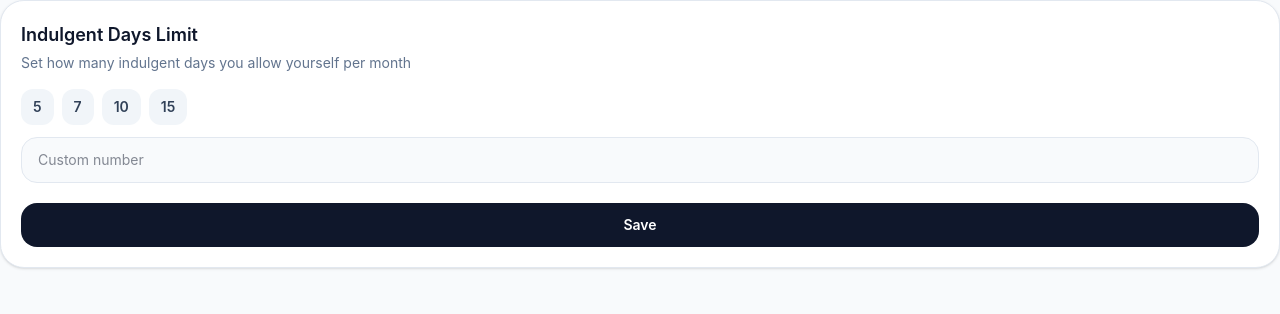
Test: saving › shows a validation error when saving with no value entered
The width and height of the screenshot is (1280, 314).
Click the button "Save": (640, 225) x1=21 y1=203 x2=1259 y2=247
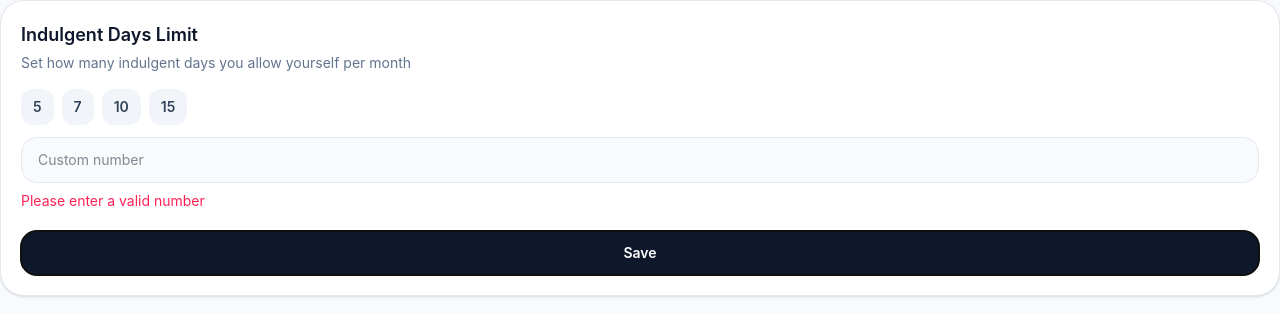
Check: the text "Please enter a valid number" is shown, box x1=21 y1=192 x2=205 y2=209
